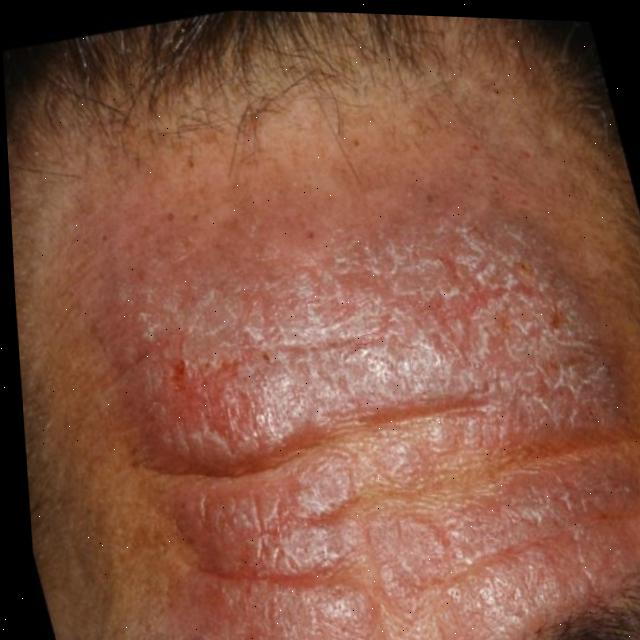Eczema: (159, 218, 577, 616)
